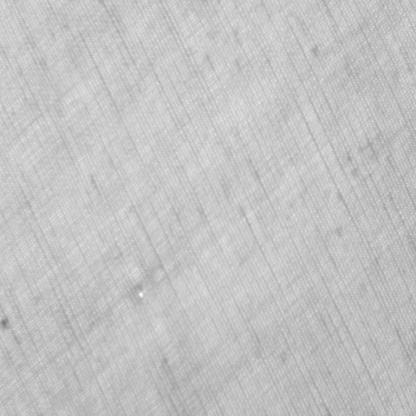hole: (135, 286, 146, 301)
